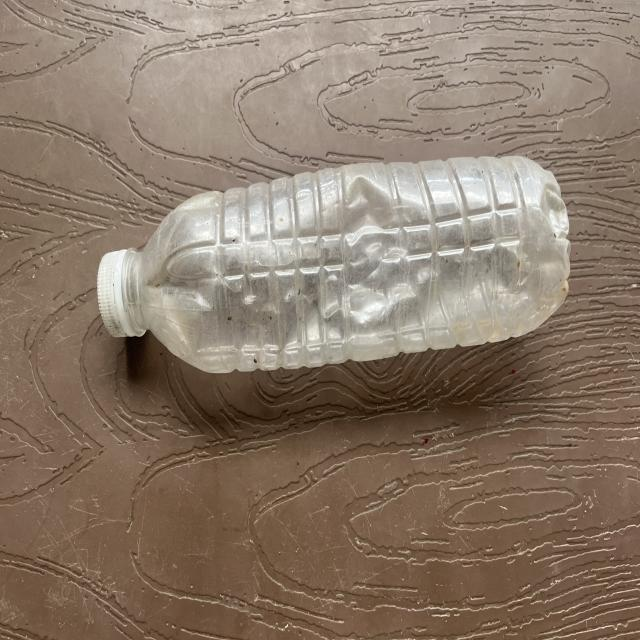REJECT: (99, 156, 546, 382)
